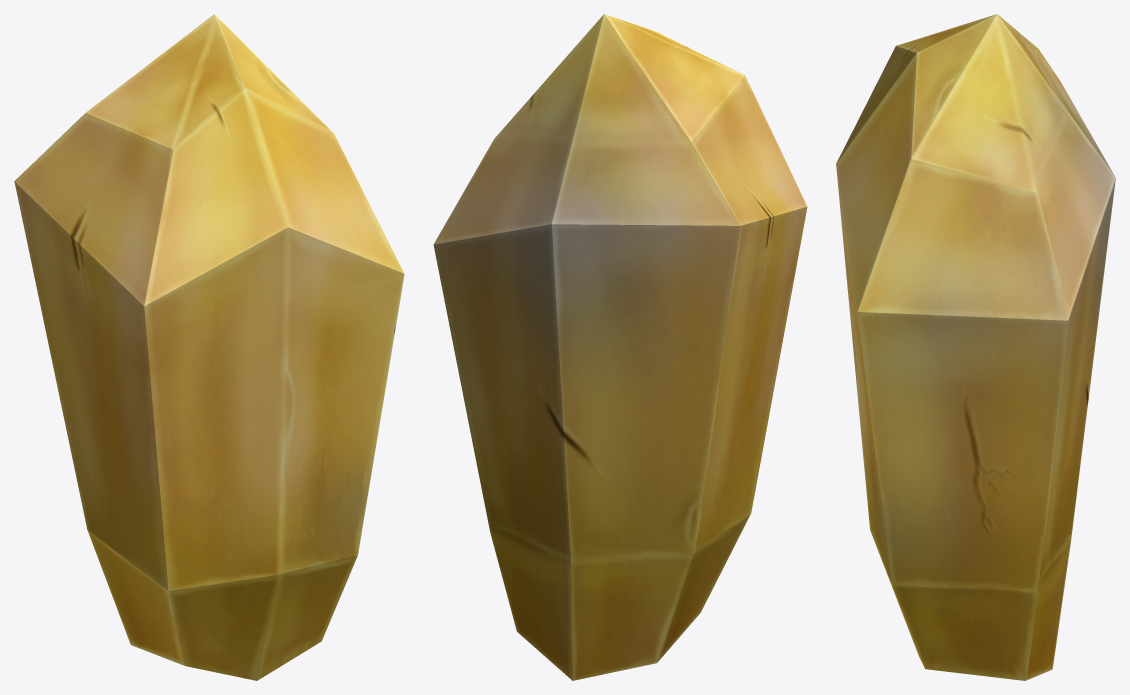
File: siberys-dragonshard.glb
The picture shows the model from 3 angles, left to right: view 1: azimuth 30°, elevation 25°; view 2: azimuth 150°, elevation 25°; view 3: azimuth 270°, elevation 25°; orthographic projection.
Visible parts, largest first — view 1: Cube; view 2: Cube; view 3: Cube.
Part boxes in pixels (left/top/right/bottom): Cube: left=14, top=14, right=404, bottom=680; Cube: left=433, top=14, right=807, bottom=680; Cube: left=836, top=14, right=1115, bottom=680.
Bounding box in the file's own units: 76.26 × 156 × 60.49.
1 material, 1 textured.
